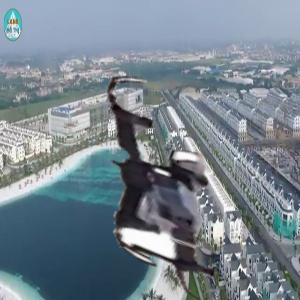drone: (60, 85, 262, 287)
